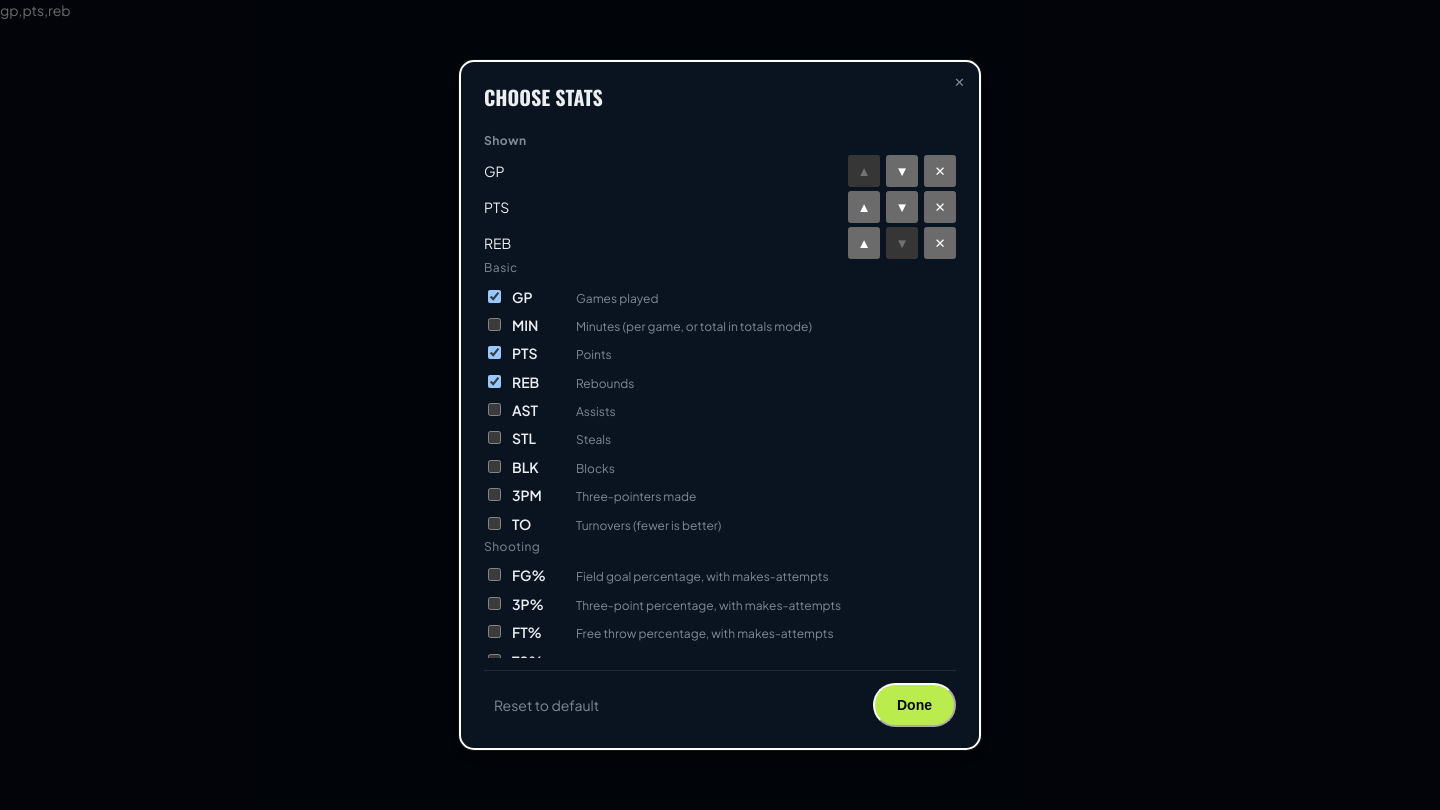
Test: StatPickerModal (spec 023 US2) › moves a stat up and down, and removes one
This screenshot has width=1440, height=810.
Click the button named "Move REB up" at (864, 243), box top-left (848, 227), bottom-right (880, 259)
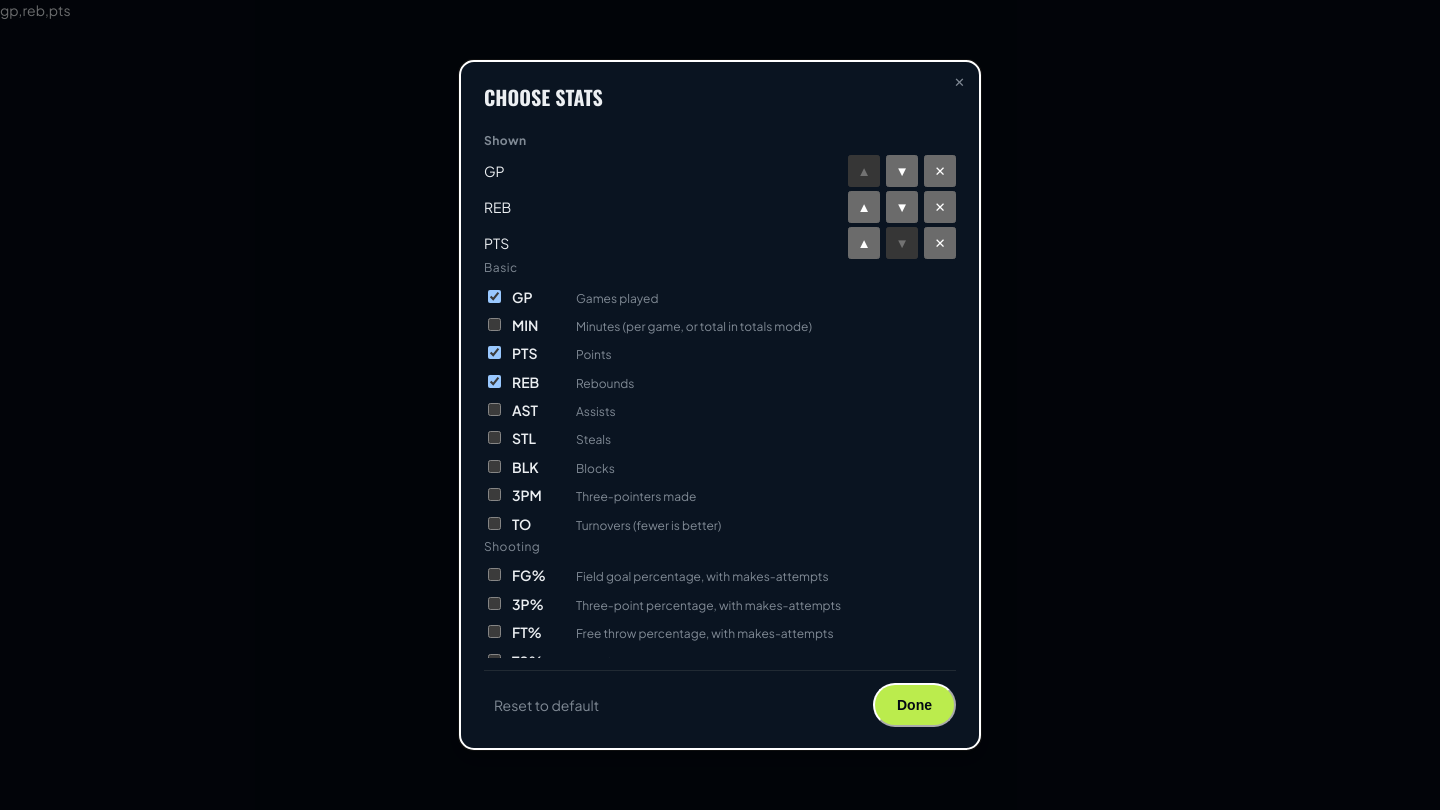
Check: the text with test id "cols" reads "gp,reb,pts", box top-left (0, 1), bottom-right (71, 19)
Click the button named "Move GP down" at (902, 171), box top-left (886, 155), bottom-right (918, 187)
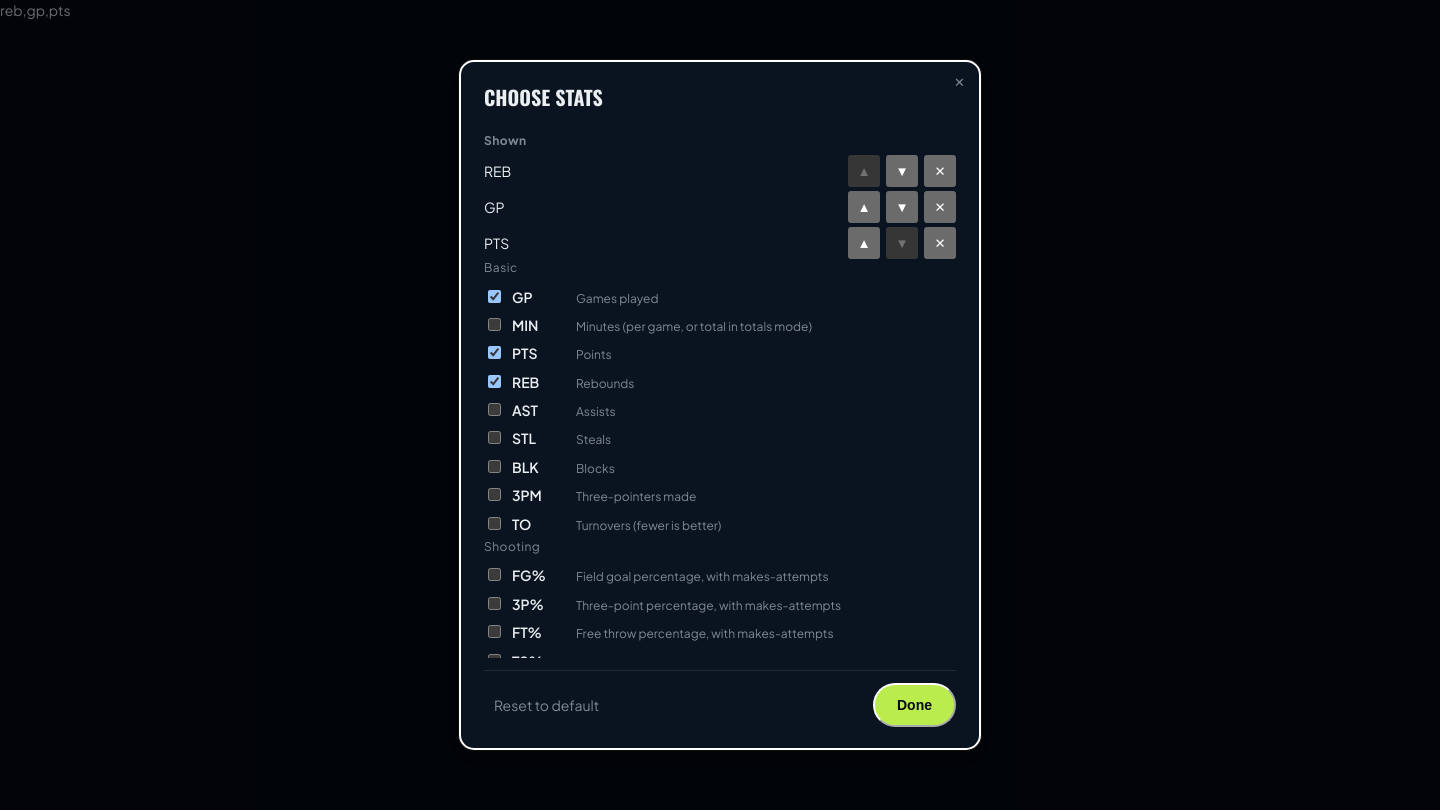
Check: the text with test id "cols" reads "reb,gp,pts", box top-left (0, 1), bottom-right (71, 19)
Click the button named "Remove GP" at (940, 207), box top-left (924, 191), bottom-right (956, 223)
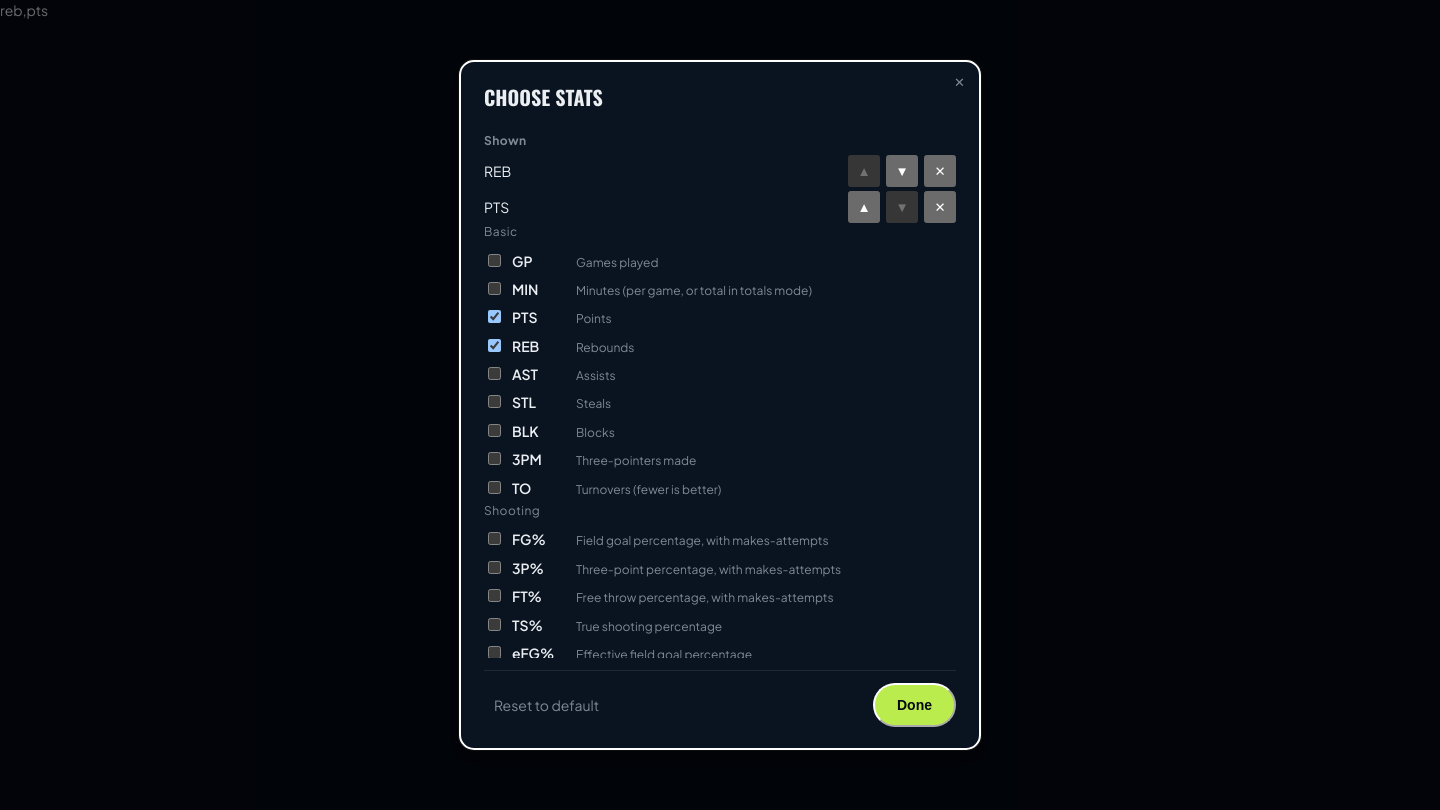
Check: the button named "Move REB up" is disabled, box top-left (848, 155), bottom-right (880, 187)
Check: the text with test id "cols" reads "reb,pts", box top-left (0, 1), bottom-right (48, 19)
